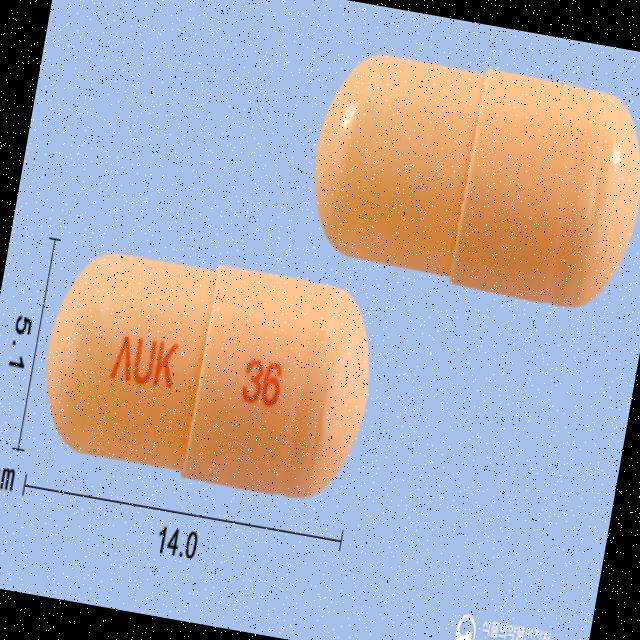Ausfixime Cap: (26, 232, 388, 512), (295, 38, 640, 319)
